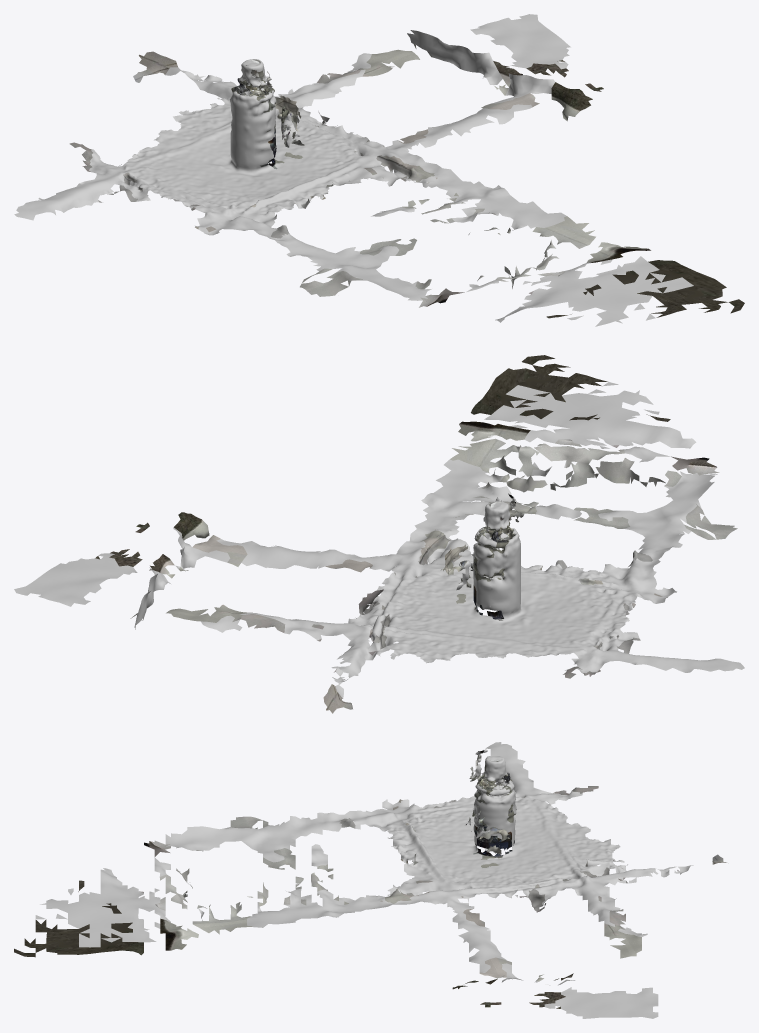
File: 120342-kddi02-tex.gltf
3 views of the same model, one above another, from view 1: azimuth 30°, elevation 25°; view 2: azimuth 150°, elevation 25°; view 3: azimuth 270°, elevation 25° (orthographic). The views are drawn at different scales.
Visible parts, largest first — view 1: Node-Mesh, Node-Mesh_1; view 2: Node-Mesh, Node-Mesh_1; view 3: Node-Mesh, Node-Mesh_1.
Boxes of the visible parts, x1=… form: Node-Mesh: x1=14, y1=14, x2=693, y2=326; Node-Mesh_1: x1=69, y1=49, x2=744, y2=318; Node-Mesh: x1=14, y1=382, x2=744, y2=698; Node-Mesh_1: x1=109, y1=355, x2=737, y2=713; Node-Mesh: x1=35, y1=742, x2=693, y2=1018; Node-Mesh_1: x1=14, y1=750, x2=726, y2=1007.
Size of the model in its own units: 0.96 by 0.2092 by 1.11.
